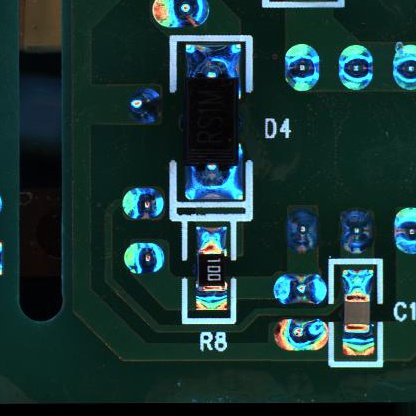spot: (271, 319, 328, 351), (283, 42, 319, 92), (271, 275, 326, 307), (335, 45, 373, 91), (153, 1, 211, 31), (339, 208, 374, 256), (122, 187, 168, 221), (285, 208, 318, 253), (121, 242, 167, 274), (391, 40, 416, 92), (394, 206, 416, 256)
